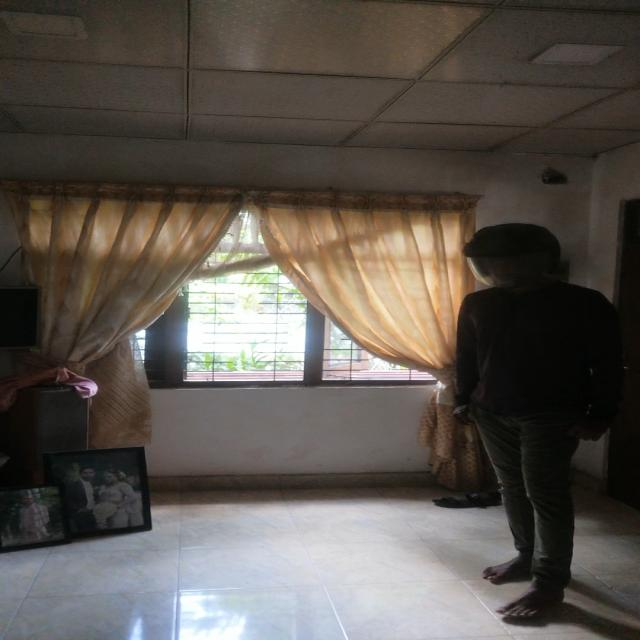Helmet_Wearer: (447, 220, 578, 305)
Person: (428, 216, 634, 619)
